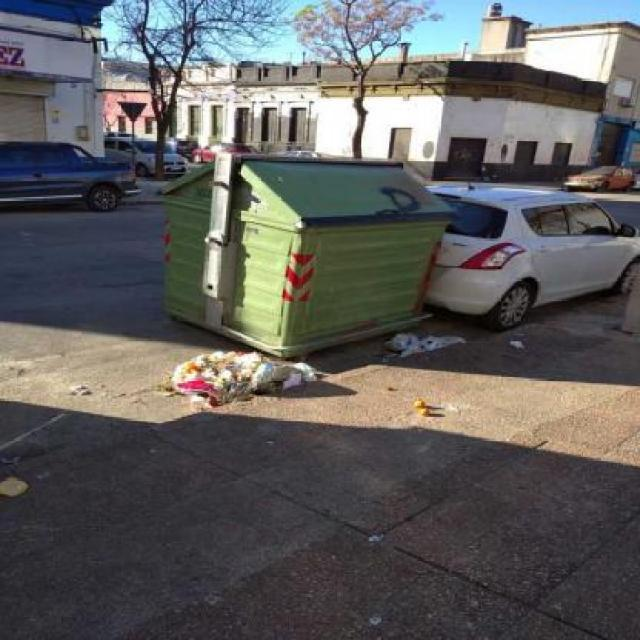garbage: (360, 319, 526, 435), (137, 340, 372, 414)
